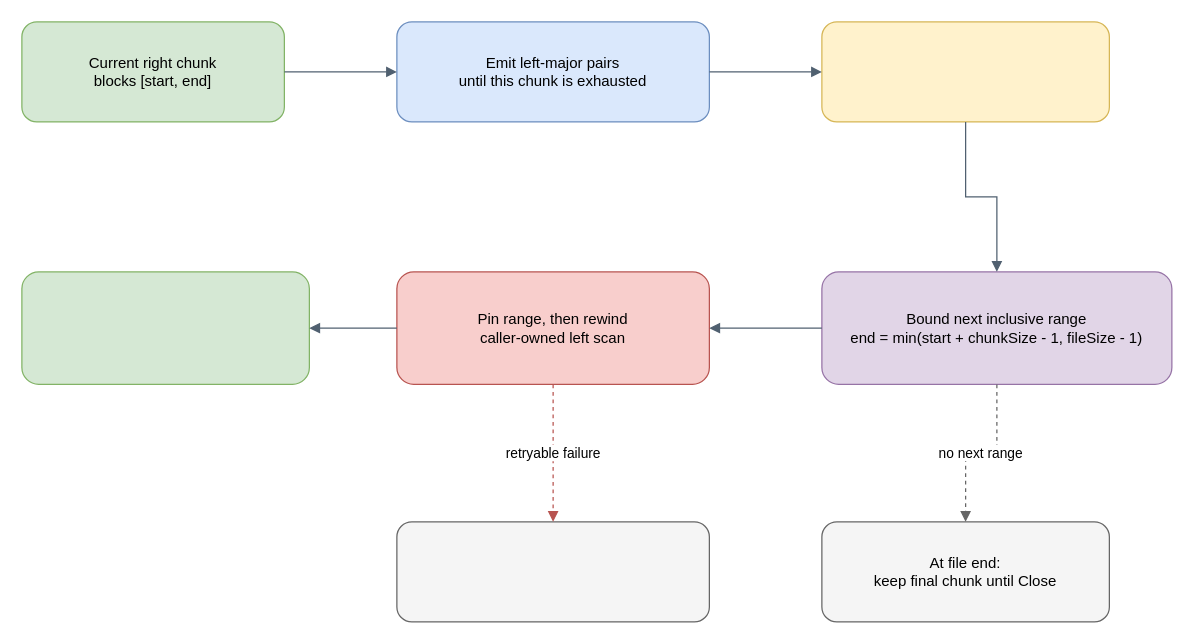
Image size: 1194x644. Some labels were removed from this diagram. The shapes that lost their labels are listed below. From the top down, each one's centre as x and y in pixels, then its label:
(x=965, y=71): Release all pages from current chunk
(x=165, y=327): Continue with new chunk advance nextBlock only after success
(x=552, y=571): On failure, keep the boundary retry cleanup or the same range
